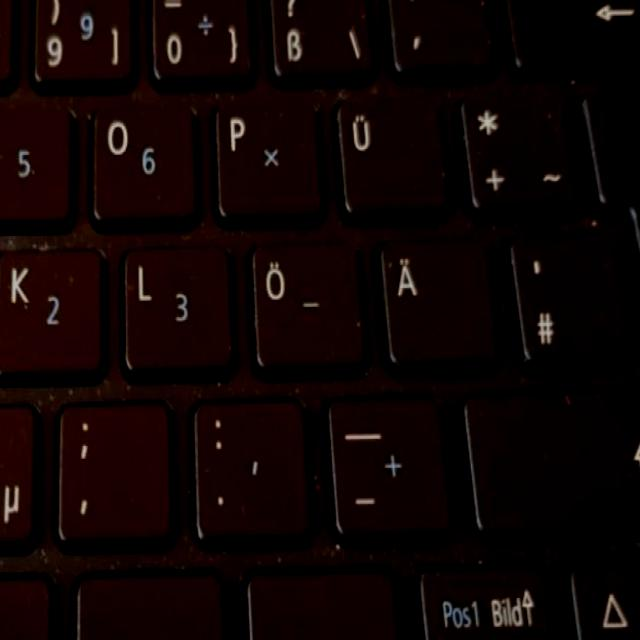0: (146, 0, 258, 91)
9: (30, 1, 138, 93)
accent: (382, 0, 499, 80)
ae: (373, 232, 505, 378)
comma: (52, 399, 177, 545)
del: (498, 0, 640, 74)
enter: (578, 84, 640, 366)
hash: (504, 230, 640, 373)
i: (0, 103, 75, 229)
k: (0, 241, 108, 387)
l: (115, 241, 239, 386)
minus: (320, 393, 458, 543)
o: (85, 100, 202, 233)
oe: (243, 241, 373, 380)
p: (207, 96, 328, 226)
plus: (456, 87, 581, 219)
point: (186, 395, 318, 543)
shift-right: (456, 387, 640, 541)
ss: (264, 0, 378, 87)
ue: (330, 90, 456, 224)
